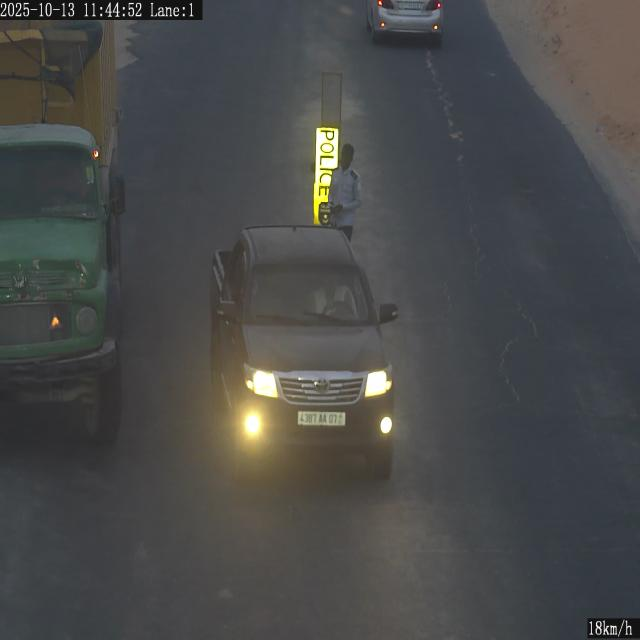BUS: (298, 411, 345, 426), (399, 2, 421, 10)
